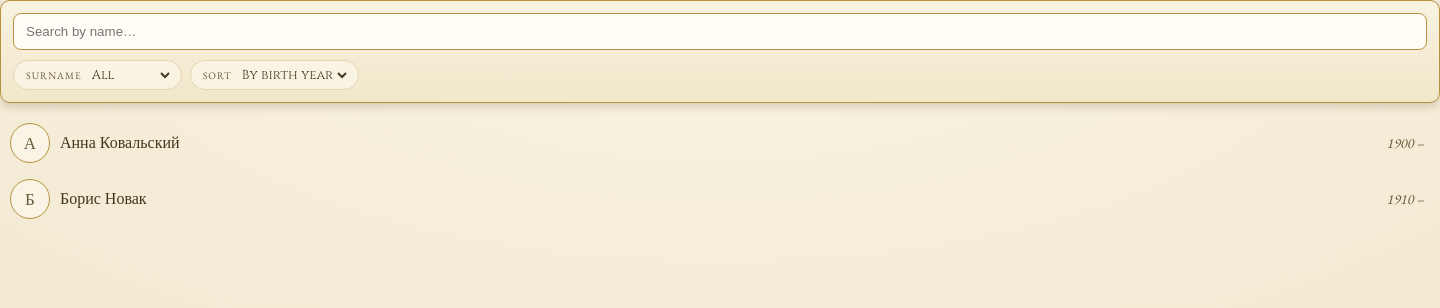
Test case: MembersIndex › filters by the selected surname
Select "Новак" in the dropdown with test id "filter-surname" at x=130, y=75, box [88,65,173,85]
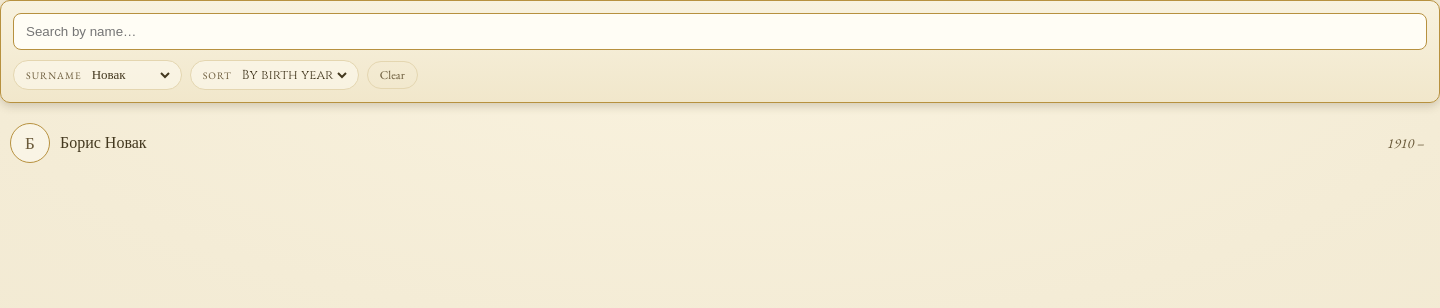
Expected: the option with test id "member-row" shows "Борис", [0,115,1434,171]
Result: the number of options with test id "member-row" is 1 at [0,115,1434,171]
